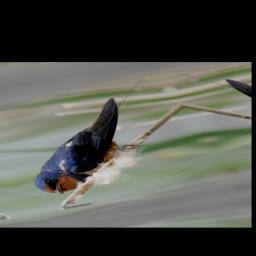Swallow: (0, 97, 175, 198)
